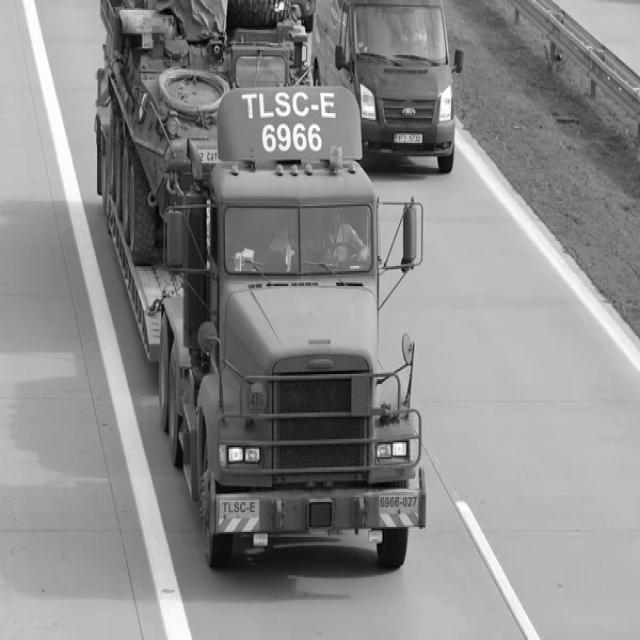Car: (313, 0, 464, 172)
Truck: (95, 70, 427, 569)
